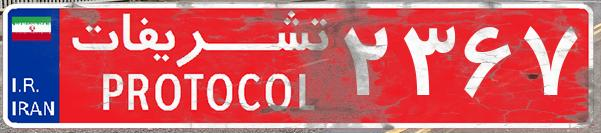2: (340, 20, 400, 115)
3: (400, 20, 460, 115)
6: (460, 20, 520, 115)
7: (520, 20, 580, 115)
تشریفات: (60, 8, 340, 125)
